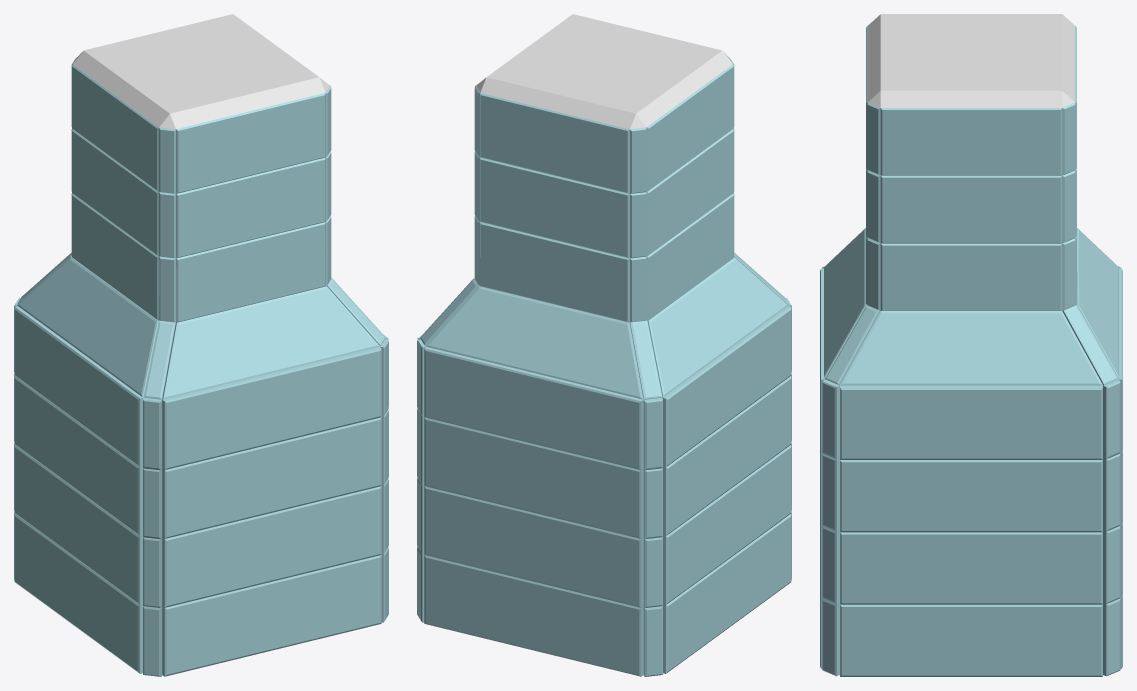
The picture shows the model from 3 angles, left to right: view 1: azimuth 30°, elevation 25°; view 2: azimuth 150°, elevation 25°; view 3: azimuth 270°, elevation 25°; orthographic projection. The views are drawn at different scales.
Parts seen in each view (by area): view 1: Cube.003; view 2: Cube.003; view 3: Cube.003.
Boxes of the visible parts, x1,y1,x2,y2 form: Cube.003: (14,14,388,676); Cube.003: (417,14,791,676); Cube.003: (820,14,1122,676).
Size of the model in its own units: 7322 by 14938 by 7307.
